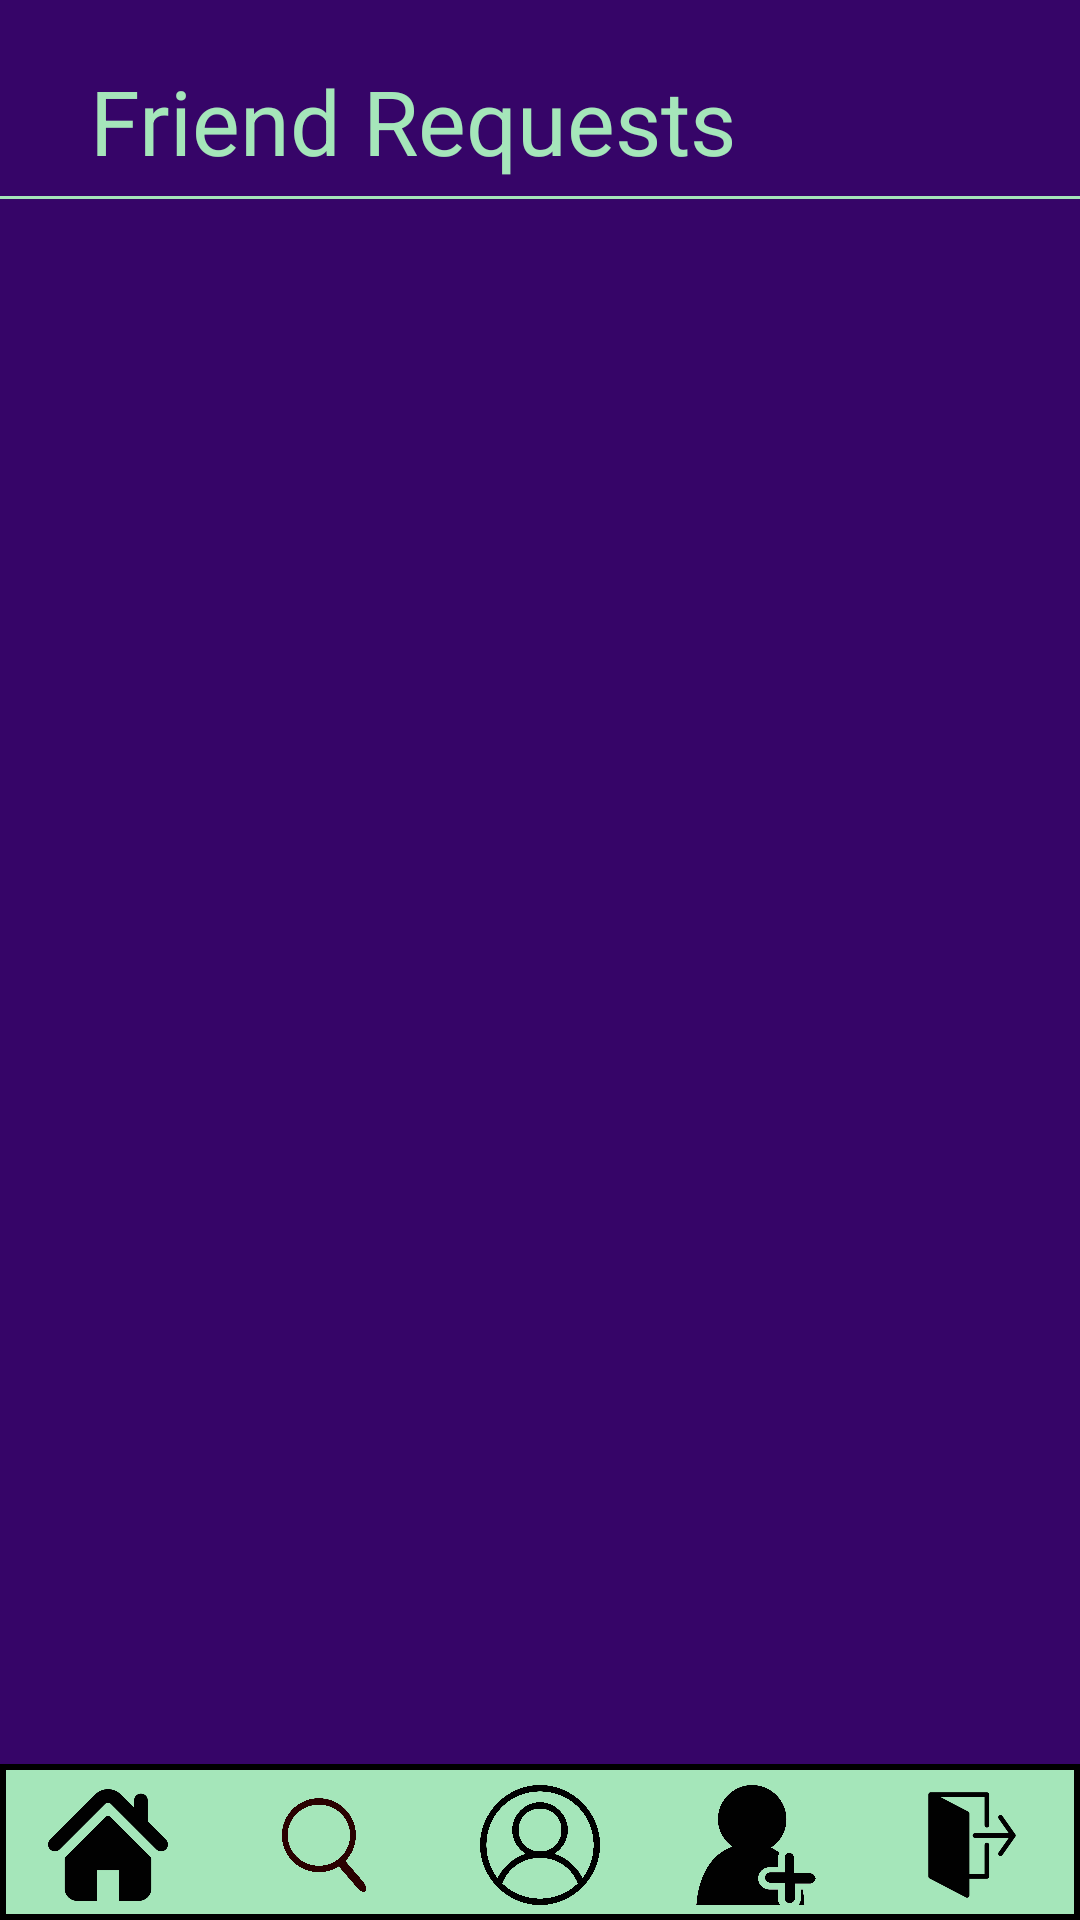

Icon bounding boxes for this 1080 × 1920 phone screenshot, format (x1, y1, x2, y2):
add friend: (696, 1785, 816, 1905)
home: (48, 1789, 168, 1901)
search: (282, 1798, 366, 1892)
